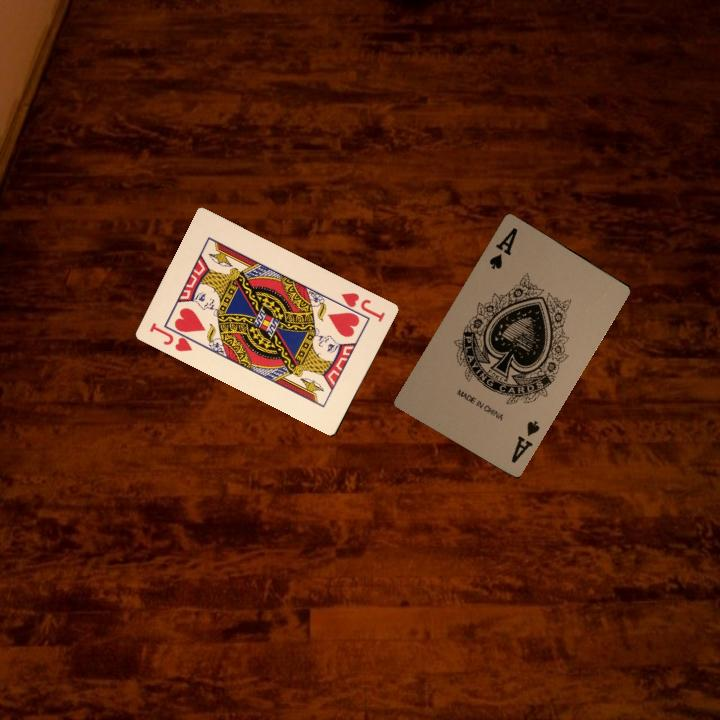As: (485, 223, 520, 272), (507, 417, 542, 465)
Jh: (332, 288, 388, 325), (145, 318, 199, 354)
